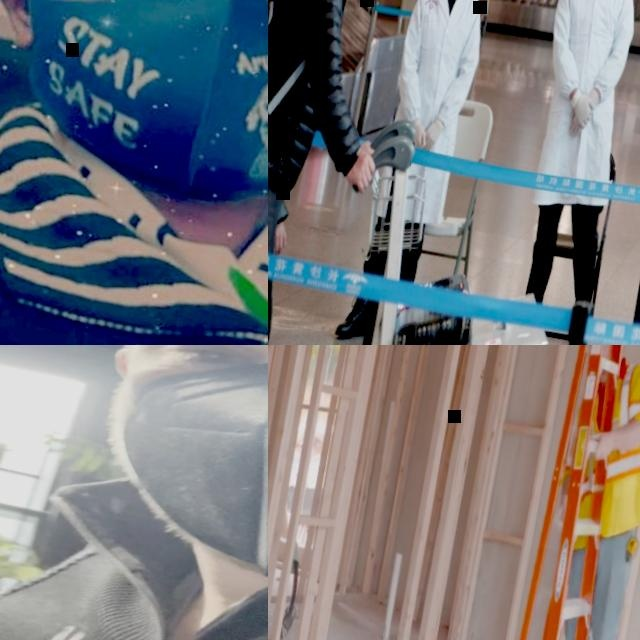Mask: (0, 0, 268, 220), (102, 345, 268, 604)
NO-Safety Vest: (0, 156, 268, 345), (0, 507, 268, 640), (540, 0, 636, 164), (268, 0, 351, 178), (393, 0, 482, 143)
Person: (0, 0, 268, 345), (0, 345, 268, 640), (331, 0, 501, 345), (268, 0, 427, 345), (495, 0, 640, 345), (512, 345, 640, 640), (268, 0, 361, 345)
Safety Vest: (549, 351, 640, 560)
